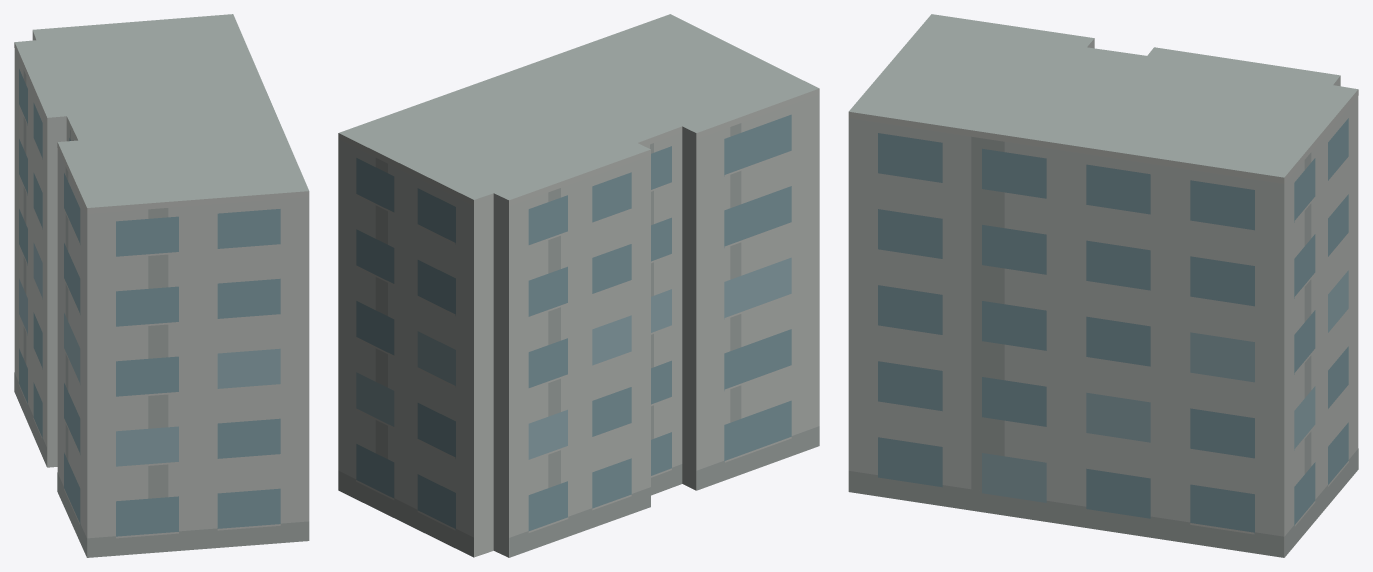
The model's file is survey-upis-32885141.glb.
3 views of the same model, side by side, from view 1: azimuth 30°, elevation 25°; view 2: azimuth 150°, elevation 25°; view 3: azimuth 270°, elevation 25° (orthographic). The views are drawn at different scales.
Visible parts, largest first — view 1: survey-upis-32885141.tmp; view 2: survey-upis-32885141.tmp; view 3: survey-upis-32885141.tmp.
Boxes of the visible parts, left/top/right/bottom form: survey-upis-32885141.tmp: left=14, top=14, right=309, bottom=557; survey-upis-32885141.tmp: left=338, top=14, right=819, bottom=557; survey-upis-32885141.tmp: left=848, top=14, right=1358, bottom=557.
Size of the model in its own units: 13.2 by 14.3 by 17.38.
